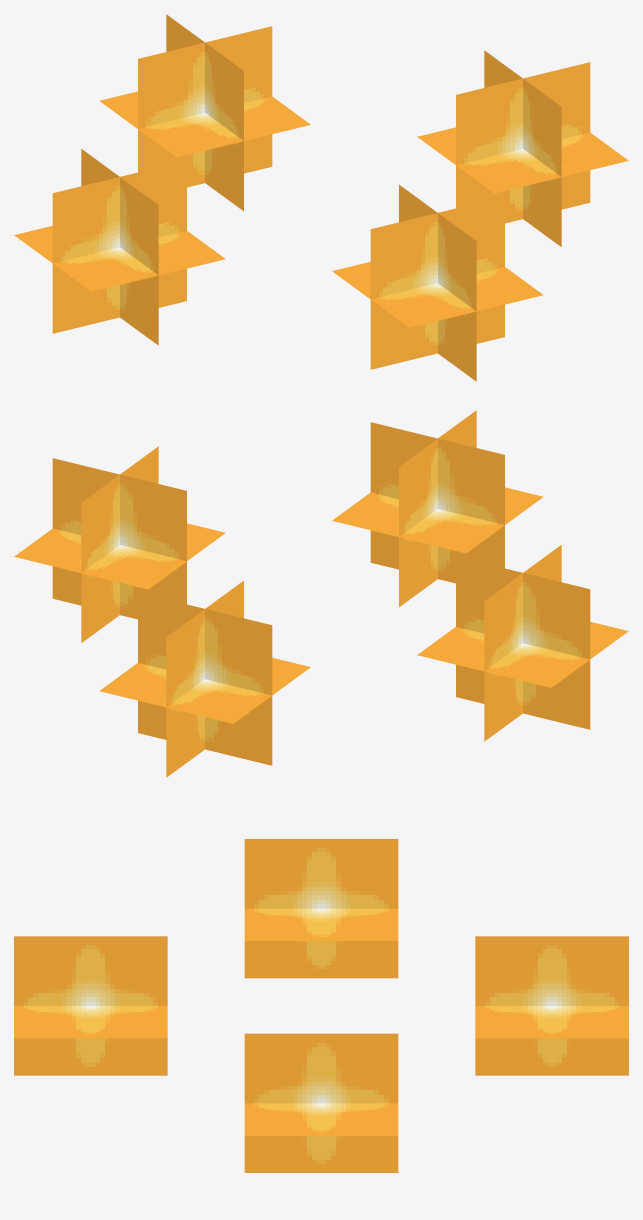
File: dizzy.glb
3 views of the same model, one above another, from view 1: azimuth 30°, elevation 25°; view 2: azimuth 150°, elevation 25°; view 3: azimuth 270°, elevation 25° (orthographic).
Visible parts, largest first — view 1: dizzy; view 2: dizzy; view 3: dizzy.
Part boxes in pixels (x1,y1,x2,y2): dizzy: (14,14,628,381); dizzy: (14,410,628,777); dizzy: (14,839,628,1172).
Size of the model in its own units: 40 by 10 by 40.
1 material, 1 textured.
